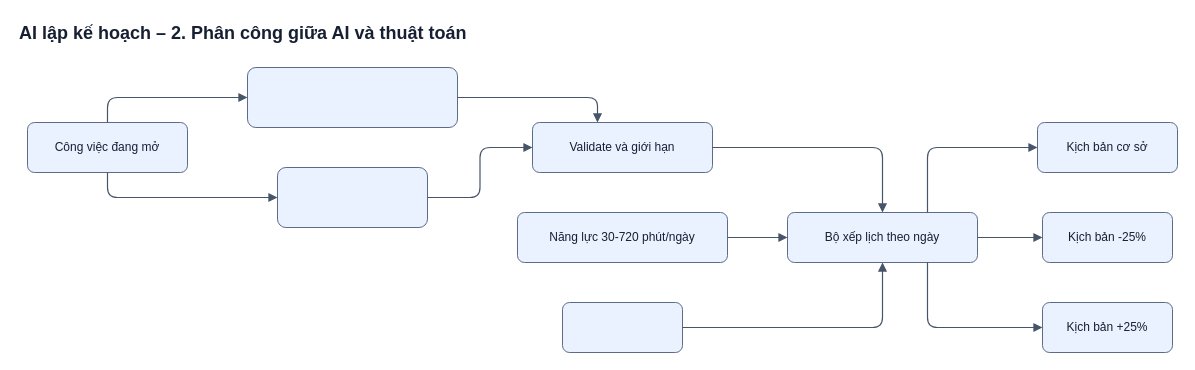
The diagram is 1195 pixels wide and 370 high, and some of its shapes have lost their labels. The centre of each missing label's shape, as x and y in pixels:
"AI ước lượng 15-480 phút và ưu tiên 1-5" goes at point 352,97.
"Kỳ 1-60 ngày" goes at point 622,327.
"Quy tắc deadline và ngày bắt đầu" goes at point 352,197.
